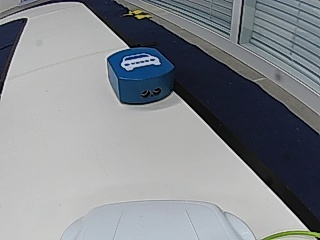safety: (121, 52, 161, 71)
